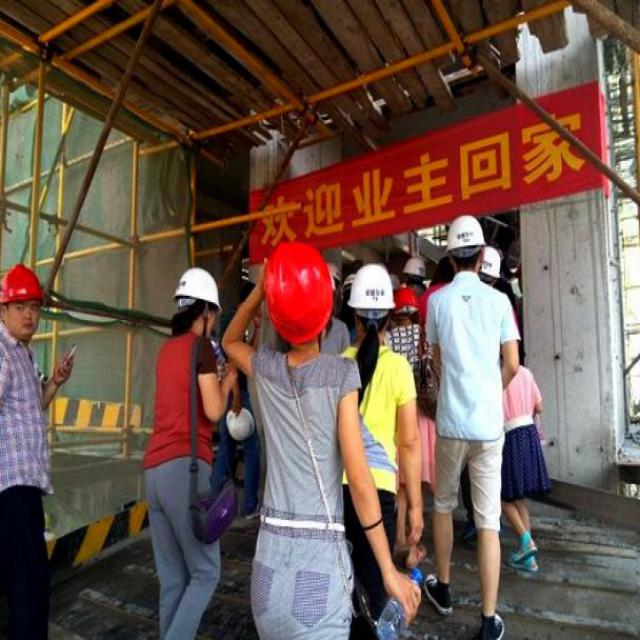helmet: (258, 235, 329, 351), (169, 250, 223, 349), (0, 243, 46, 343), (345, 258, 392, 345), (439, 211, 484, 282)
